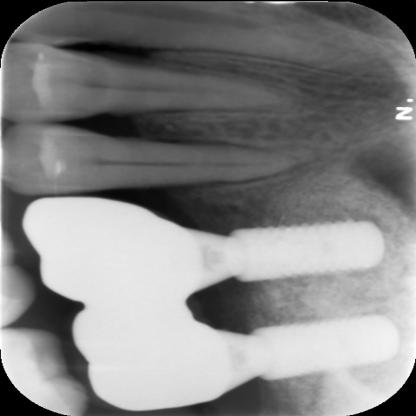ITI: (250, 307, 404, 391), (226, 210, 386, 286)
